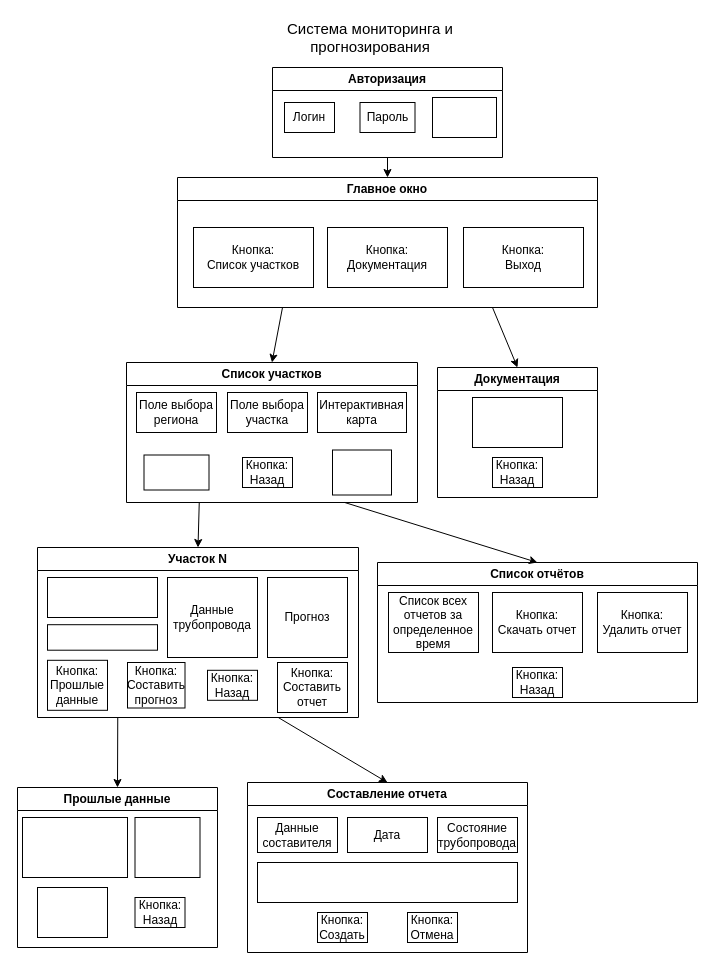
Some shapes in this 715 by 970 pixel diagram are drawn without their labels. The shapes that lost their labels are listed below. From the top down, each one's centre as x and y in pixels, then its label:
the point at 464,117: Кнопка: Вход
the point at 517,422: Поле выбора нужного файла
the point at 176,472: Кнопка: Выбрать
the point at 362,472: Кнопка: Список отчетов
the point at 102,597: Местоположение трубопровода
the point at 102,637: Дата укладки
the point at 75,847: Таблица данных за определенный промежуток времени
the point at 167,847: График данных
the point at 387,882: Вердикт(заключение)
the point at 72,912: Кнопка: Нарисовать график
